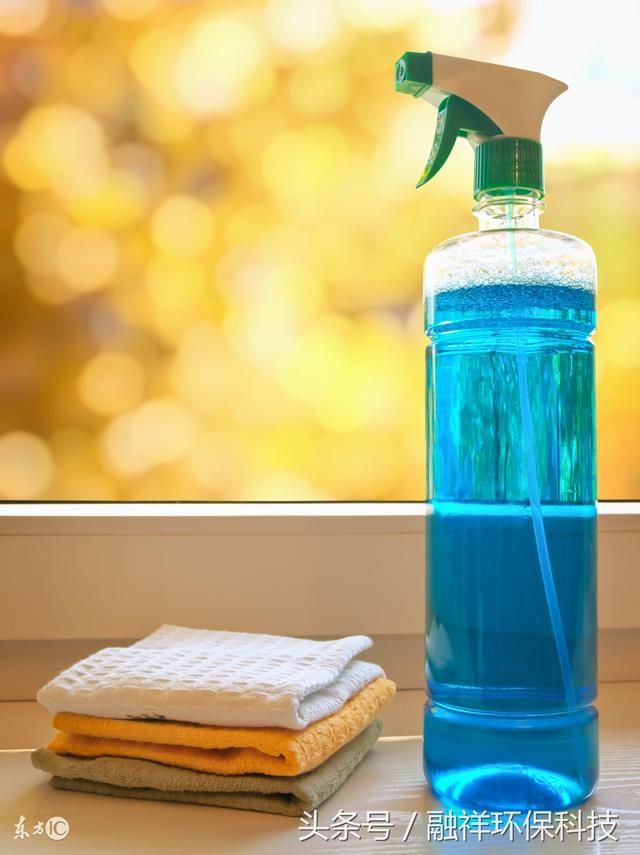cleaner: (382, 47, 633, 847)
